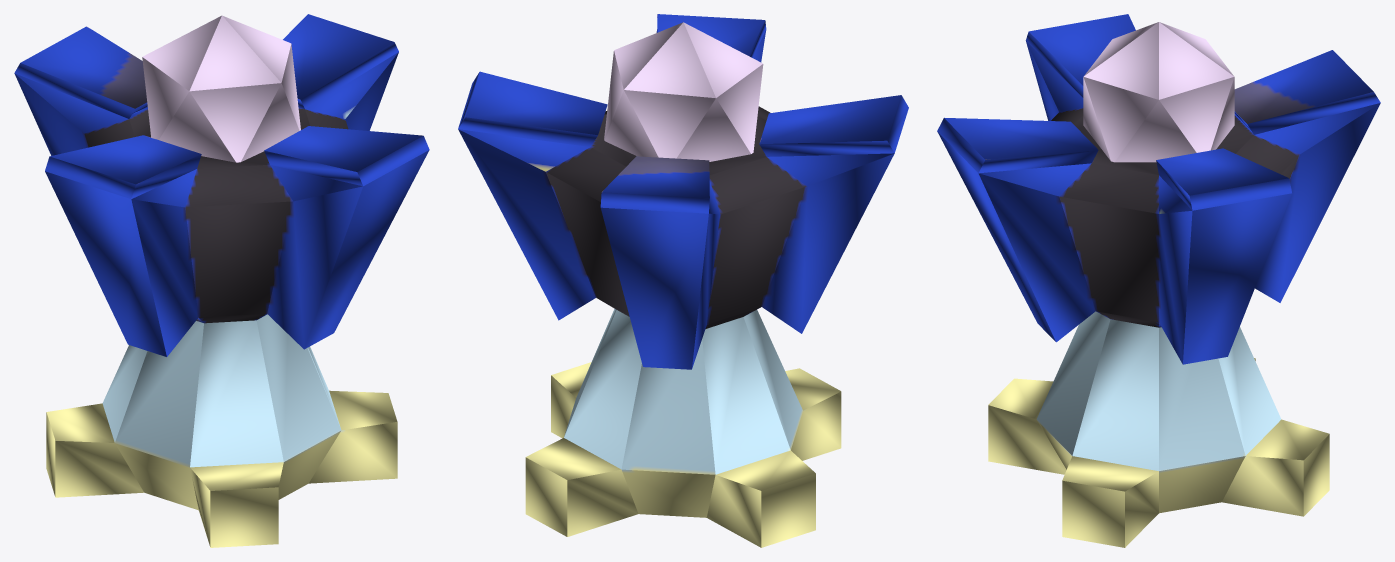
File: tower.glb
3 views of the same model, side by side, from view 1: azimuth 30°, elevation 25°; view 2: azimuth 150°, elevation 25°; view 3: azimuth 270°, elevation 25° (orthographic).
Visible parts, largest first — view 1: Icosphere; view 2: Icosphere; view 3: Icosphere.
Boxes of the visible parts, <box> form: Icosphere: <box>14,14,429,547</box>; Icosphere: <box>458,14,908,547</box>; Icosphere: <box>937,14,1380,547</box>.
Bounding box in the file's own units: 5 × 5.64 × 5.
Materials: 1 (1 with a texture image).
